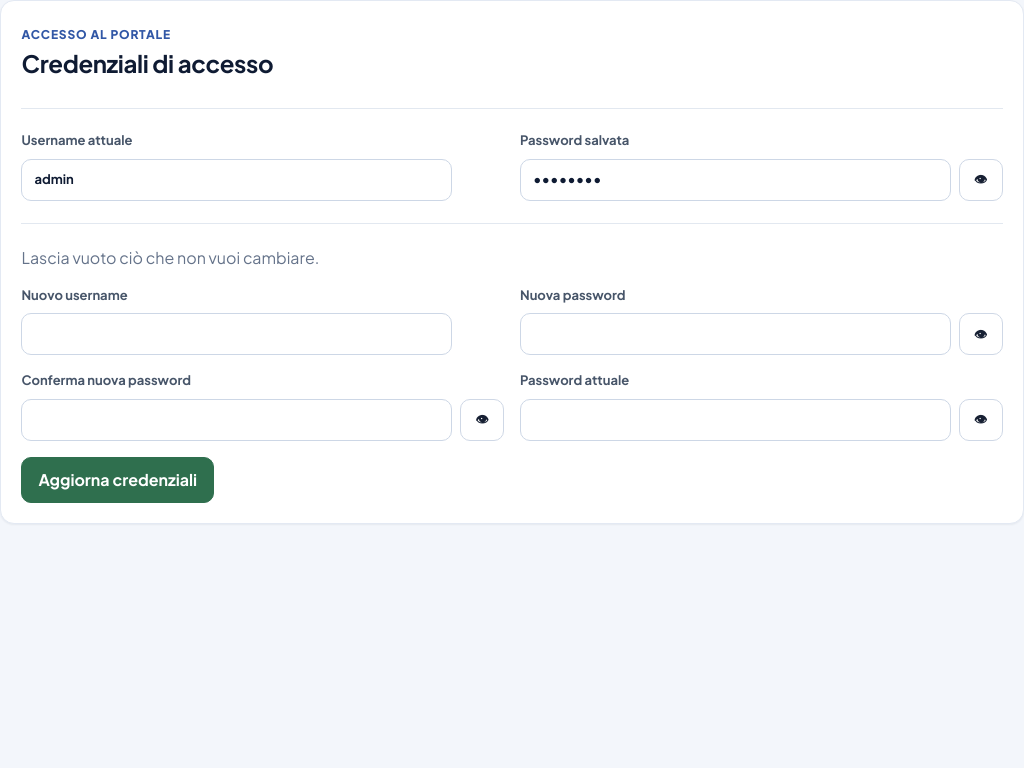
Test: AccountCredentialsPanel › sends only the changed fields
In the field labelled "Nuovo username": (237, 334) 22,313 -> 452,355, type "capo"
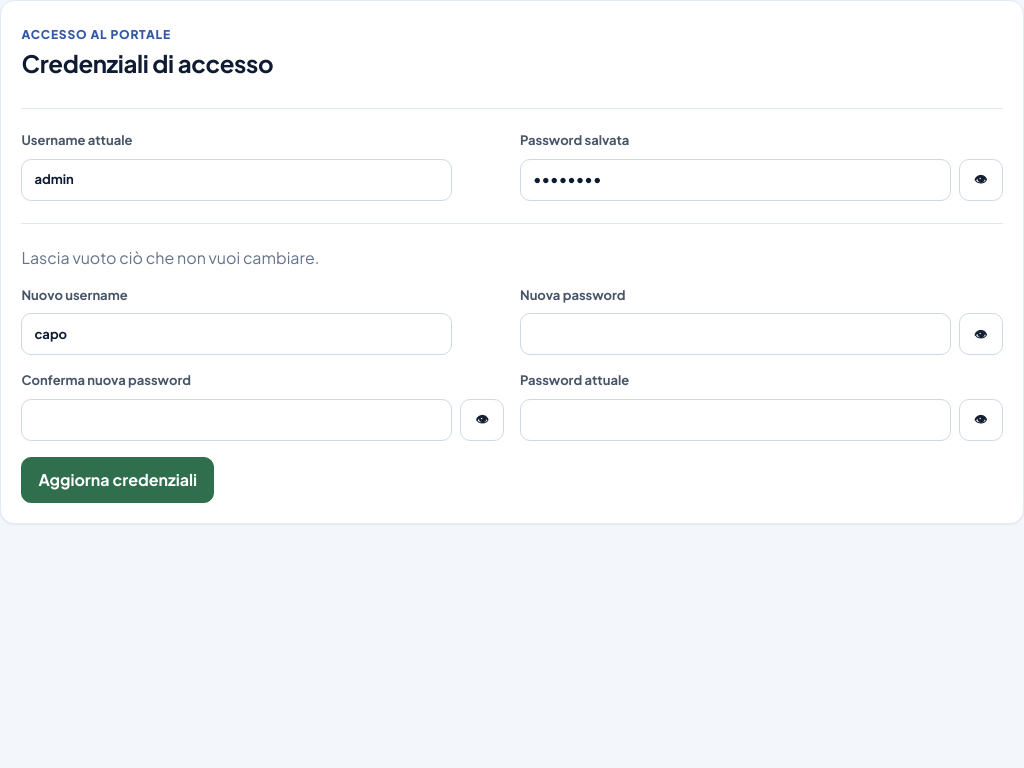
In the password field labelled "Password attuale": (735, 420) 520,399 -> 950,441, type "vecchia"
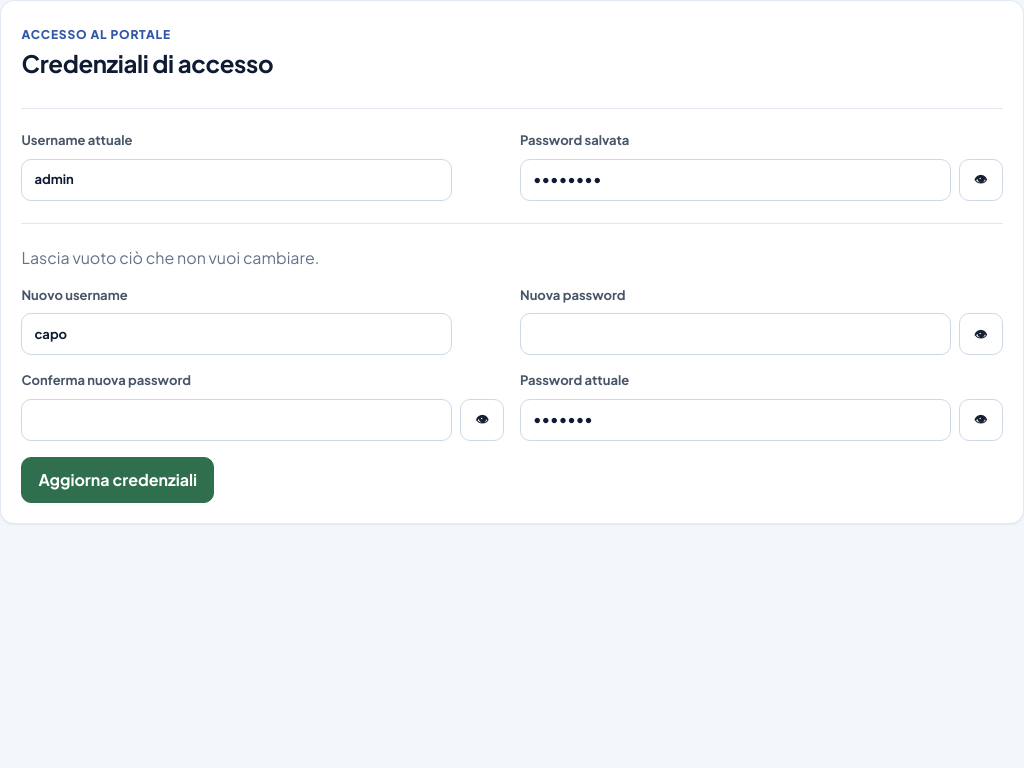
Click the button "Aggiorna credenziali": (118, 480) 22,457 -> 214,503
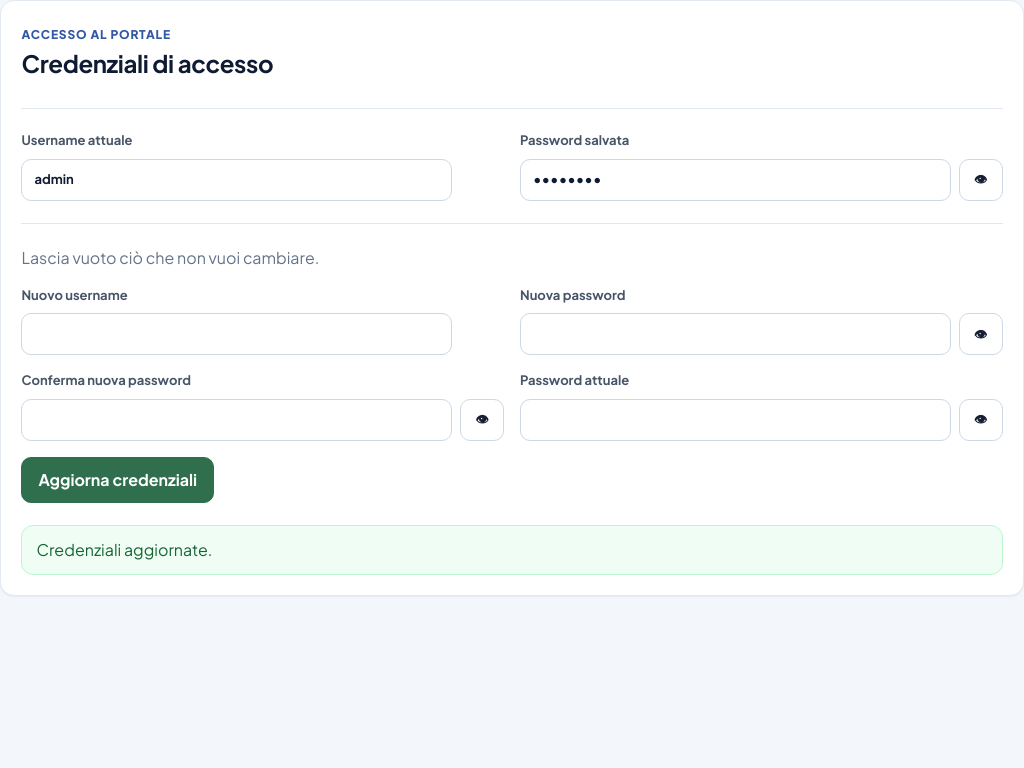
Now the message shows "Credenziali aggiornate", box 36,539 -> 212,560
